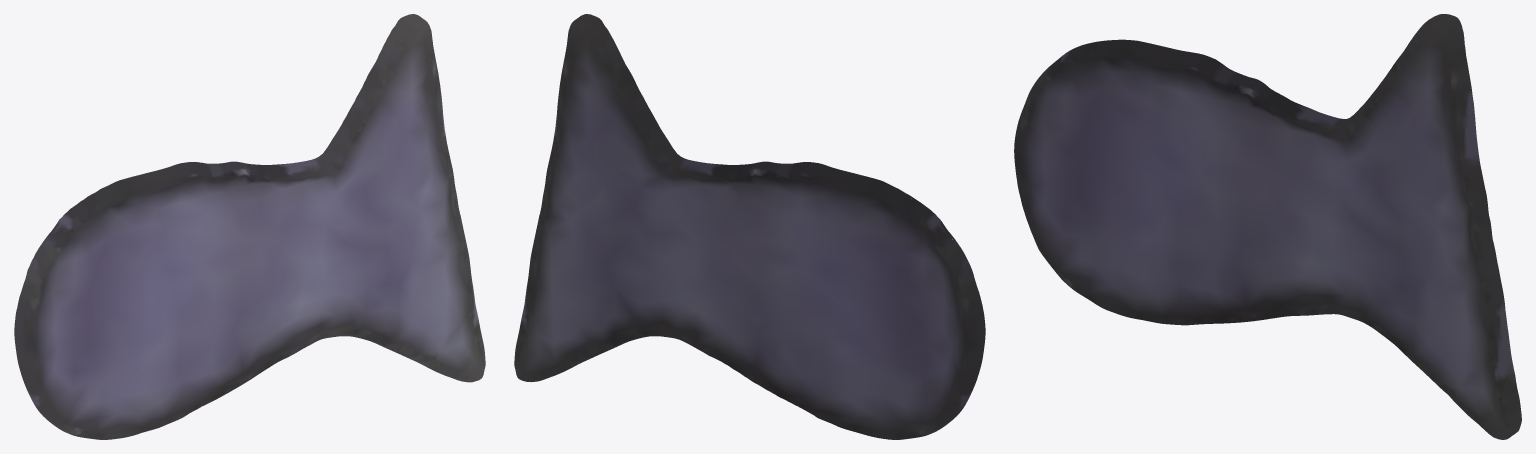
3 renders of one model, left to right at view 1: azimuth 30°, elevation 25°; view 2: azimuth 150°, elevation 25°; view 3: azimuth 330°, elevation 25°, orthographic. The views are drawn at different scales.
Bounding box in the file's own units: 416 × 319 × 20.09.
